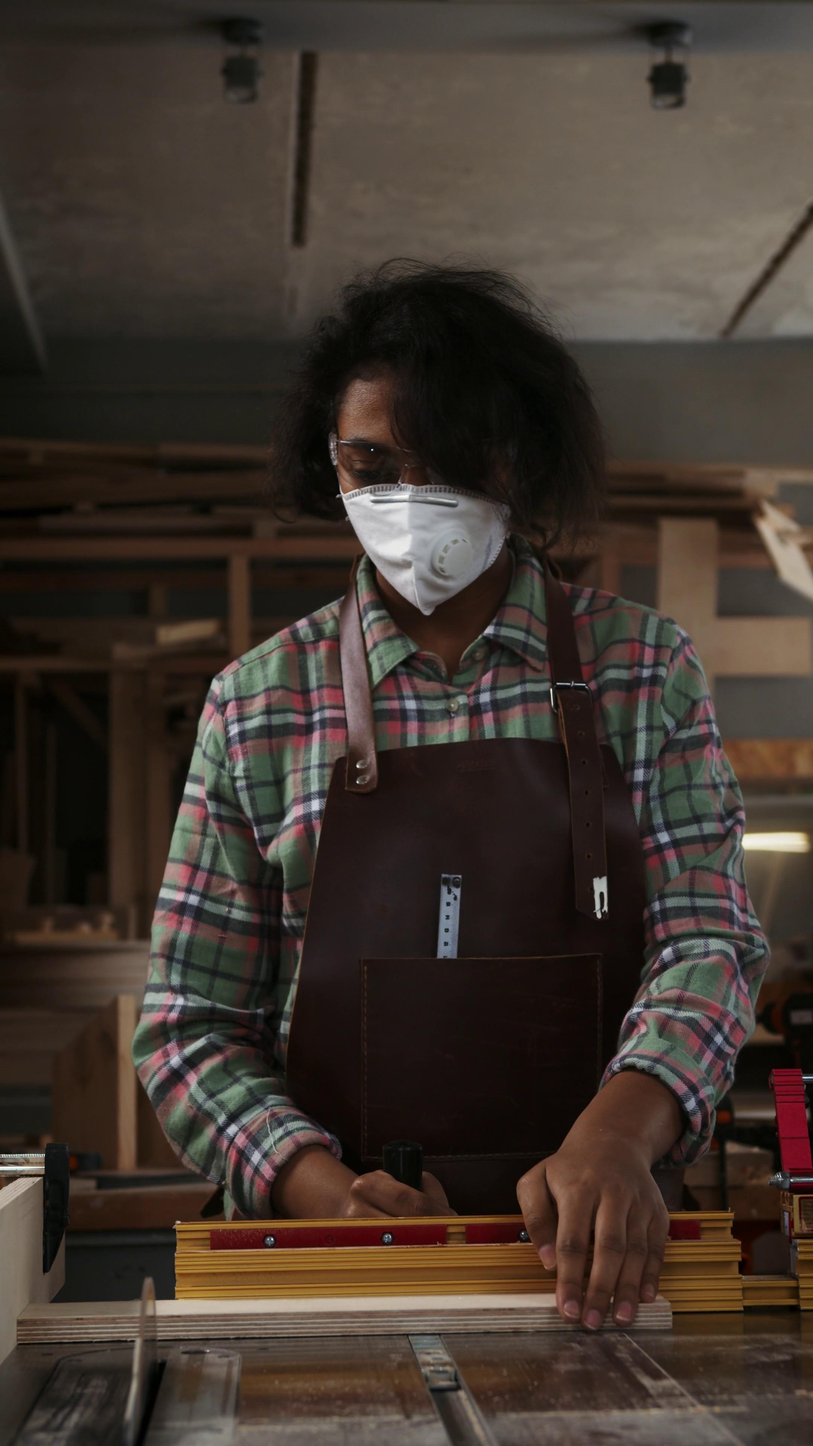mask: (336, 482, 512, 618)
person: (120, 258, 774, 1341)
